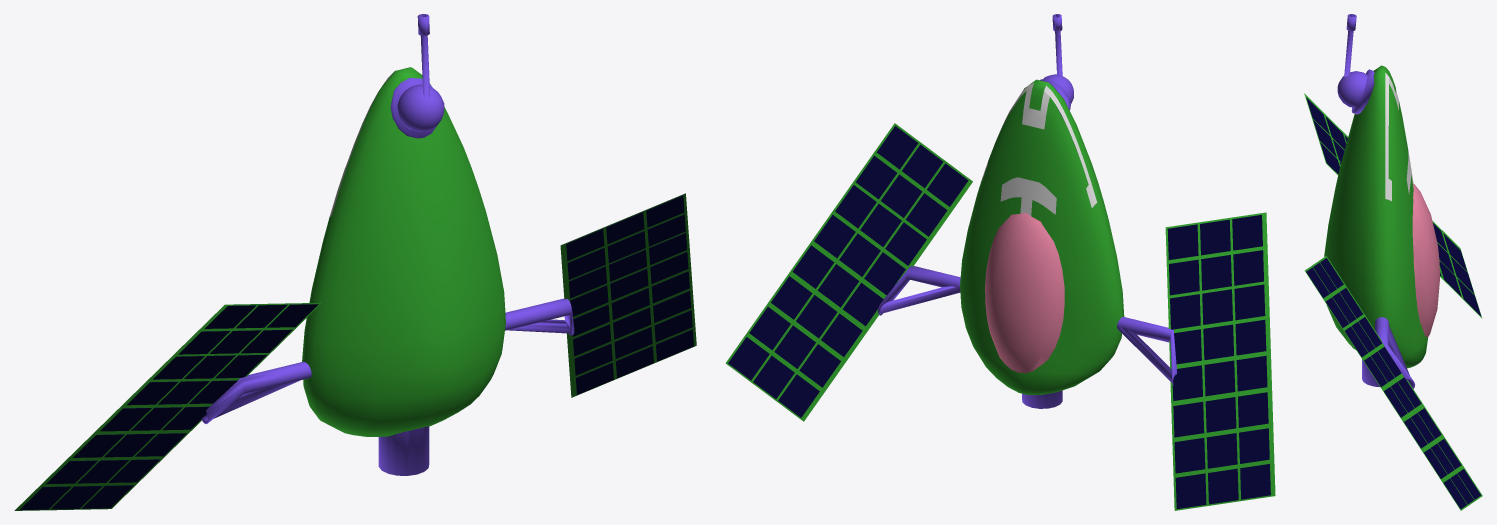
File: SpaceShip.fbx
The picture shows the model from 3 angles, left to right: view 1: azimuth 30°, elevation 25°; view 2: azimuth 150°, elevation 25°; view 3: azimuth 270°, elevation 25°; orthographic projection. The views are drawn at different scales.
Visible parts, largest first — view 1: Hull; view 2: Hull; view 3: Hull.
Part boxes in pixels (x1,y1,x2,y2): Hull: (14, 14, 696, 510); Hull: (725, 14, 1275, 510); Hull: (1304, 14, 1482, 510).
Size of the model in its own units: 975 by 682 by 282.
